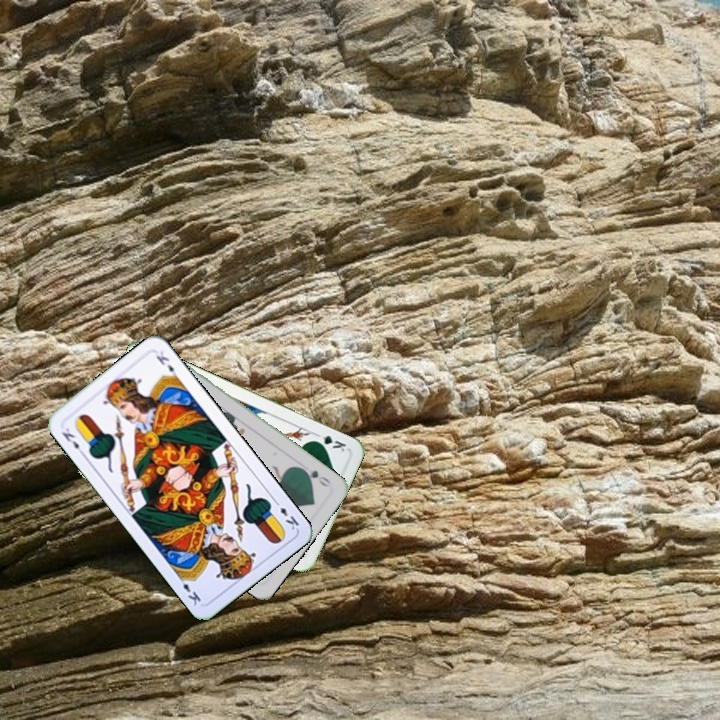EK: (270, 496, 302, 533), (58, 423, 87, 458)
GK: (309, 429, 349, 454)
GO: (297, 464, 333, 489)
